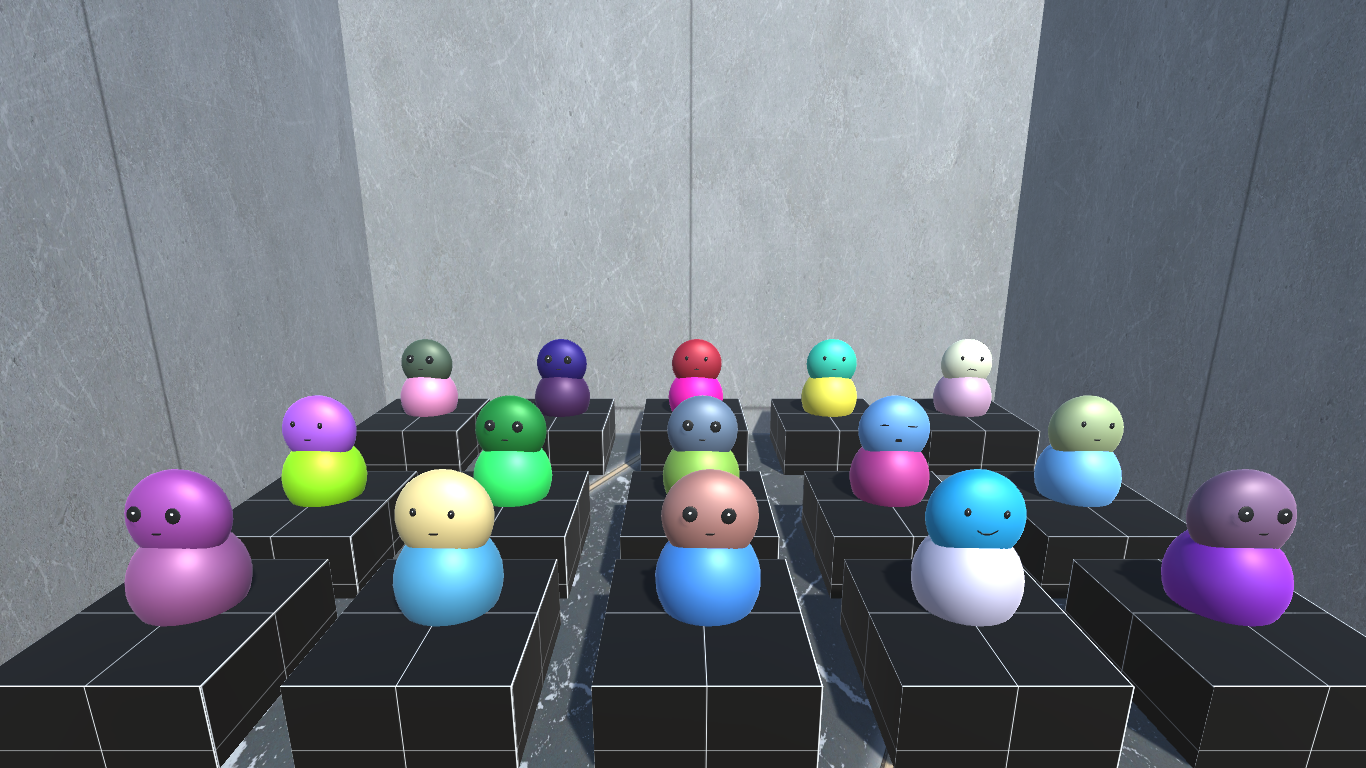blob_atento: (1179, 462, 1300, 557), (119, 465, 231, 555), (655, 465, 761, 558), (471, 393, 545, 458), (666, 393, 742, 452), (534, 336, 590, 384), (396, 337, 453, 380)
blob_dormindo: (852, 393, 928, 457)
blob_feliz: (922, 461, 1032, 555)
blob_normal: (388, 465, 499, 554), (1041, 390, 1133, 457), (275, 393, 354, 450), (803, 334, 857, 382), (667, 337, 723, 383)
blob_triste: (938, 336, 992, 386)
